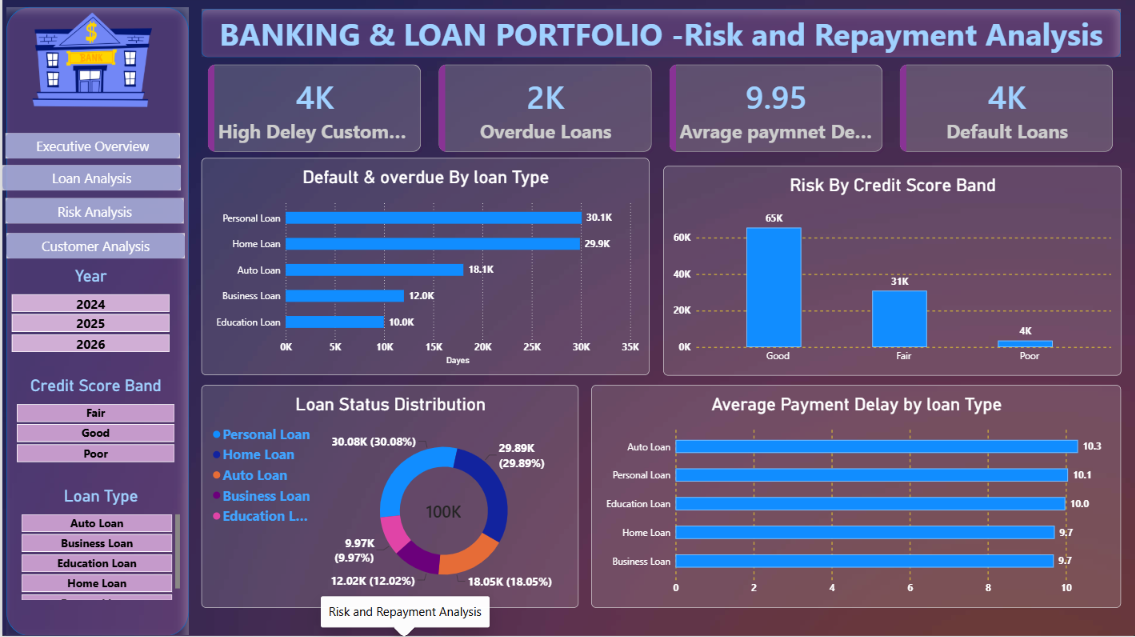

The dashboard page shown, as its layout file describes it:
{"tool":"powerbi","page":{"name":"Risk and Repayment Analysis","canvas":[1920,1080],"ordinal":2},"visuals":[{"type":"cardVisual","fields":{"Data":["banking_loan_db loan_applications.High Deley Customers","banking_loan_db loan_applications.Overdue Loans","banking_loan_db loan_applications.Avrage paymnet Delay","banking_loan_db loan_applications.Default Loans"]},"box":[336.8,97.8,1558.7,170.7],"z":0},{"type":"shape","box":[7.5,12.5,309.3,1066.5],"z":1000},{"type":"clusteredBarChart","title":"Default & overdue By loan Type ","fields":{"Category":["banking_loan_db loan_applications.loan_type"],"Y":["CountNonNull(banking_loan_db loan_applications.customer_id)"]},"box":[337.8,267.6,759,368.1],"z":2000},{"type":"barChart","title":"Average  Payment Delay by loan Type ","fields":{"Category":["banking_loan_db loan_applications.loan_type"],"Y":["banking_loan_db loan_applications.Avrage paymnet Delay"]},"box":[998.1,652.8,897.6,377.6],"z":3000},{"type":"donutChart","title":"Loan Status  Distribution ","fields":{"Category":["banking_loan_db loan_applications.loan_type"],"Y":["CountNonNull(banking_loan_db loan_applications.customer_id)"]},"box":[337.8,652.8,639.5,377.6],"z":4000},{"type":"columnChart","title":"Risk By Credit Score Band ","fields":{"Category":["banking_loan_db loan_applications.Credit_Score_Band"],"Y":["CountNonNull(banking_loan_db loan_applications.customer_id)"]},"box":[1119.6,280.8,776.1,354.9],"z":5000},{"type":"shape","box":[336.8,15.9,1558.7,81.9],"z":6000},{"type":"listSlicer","fields":{"Values":["banking_loan_db loan_applications.application_date.Variation.Date Hierarchy.Year"]},"box":[0,436.7,299.8,187.9],"z":7000},{"type":"listSlicer","title":"Loan Type ","fields":{"Values":["banking_loan_db loan_applications.loan_type"]},"box":[17.5,810,300,222.5],"z":8000},{"type":"listSlicer","title":"Credit Score Band ","fields":{"Values":["banking_loan_db loan_applications.Credit_Score_Band"]},"box":[8.3,623.3,299.8,187.9],"z":9000},{"type":"actionButton","box":[5,225,295.8,43.2],"z":10000},{"type":"actionButton","box":[0,280,302.6,43.2],"z":11000},{"type":"actionButton","box":[5,335,302.6,43.2],"z":12000},{"type":"actionButton","box":[7.5,395,302.6,43.2],"z":13000},{"type":"image","box":[42.5,0,220,202.5],"z":13001}]}

Visuals, with their boxes on the page's 1920x1080 design canvas (x1, y1, x2, y2). These are canvas units, not pixel positions in the 1135x637 screenshot, which may show the page scaled, cropped or inside an application window:
cardVisual - banking_loan_db loan_applications.High Deley Customers x banking_loan_db loan_applications.Overdue Loans: locate(337, 98, 1896, 268)
shape: locate(8, 12, 317, 1079)
"Default & overdue By loan Type " clusteredBarChart: locate(338, 268, 1097, 636)
"Average  Payment Delay by loan Type " barChart: locate(998, 653, 1896, 1030)
"Loan Status  Distribution " donutChart: locate(338, 653, 977, 1030)
"Risk By Credit Score Band " columnChart: locate(1120, 281, 1896, 636)
shape: locate(337, 16, 1896, 98)
listSlicer - banking_loan_db loan_applications.application_date.Variation.Date Hierarchy.Year: locate(0, 437, 300, 625)
"Loan Type " listSlicer: locate(18, 810, 318, 1032)
"Credit Score Band " listSlicer: locate(8, 623, 308, 811)
actionButton: locate(5, 225, 301, 268)
actionButton: locate(0, 280, 303, 323)
actionButton: locate(5, 335, 308, 378)
actionButton: locate(8, 395, 310, 438)
image: locate(42, 0, 262, 202)
